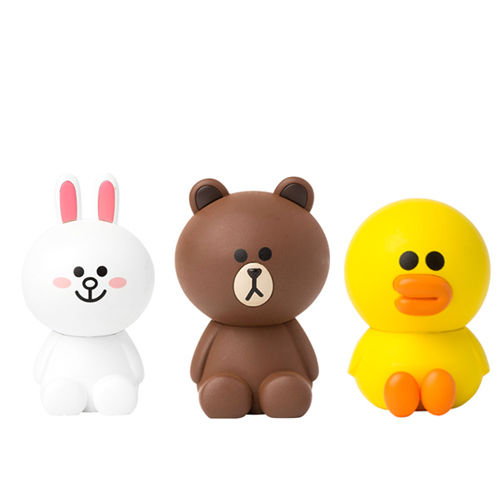line_brown: (172, 170, 335, 330)
